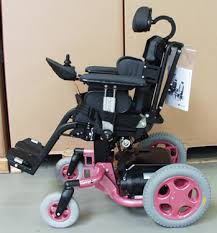wheelchair: (11, 7, 202, 227)
